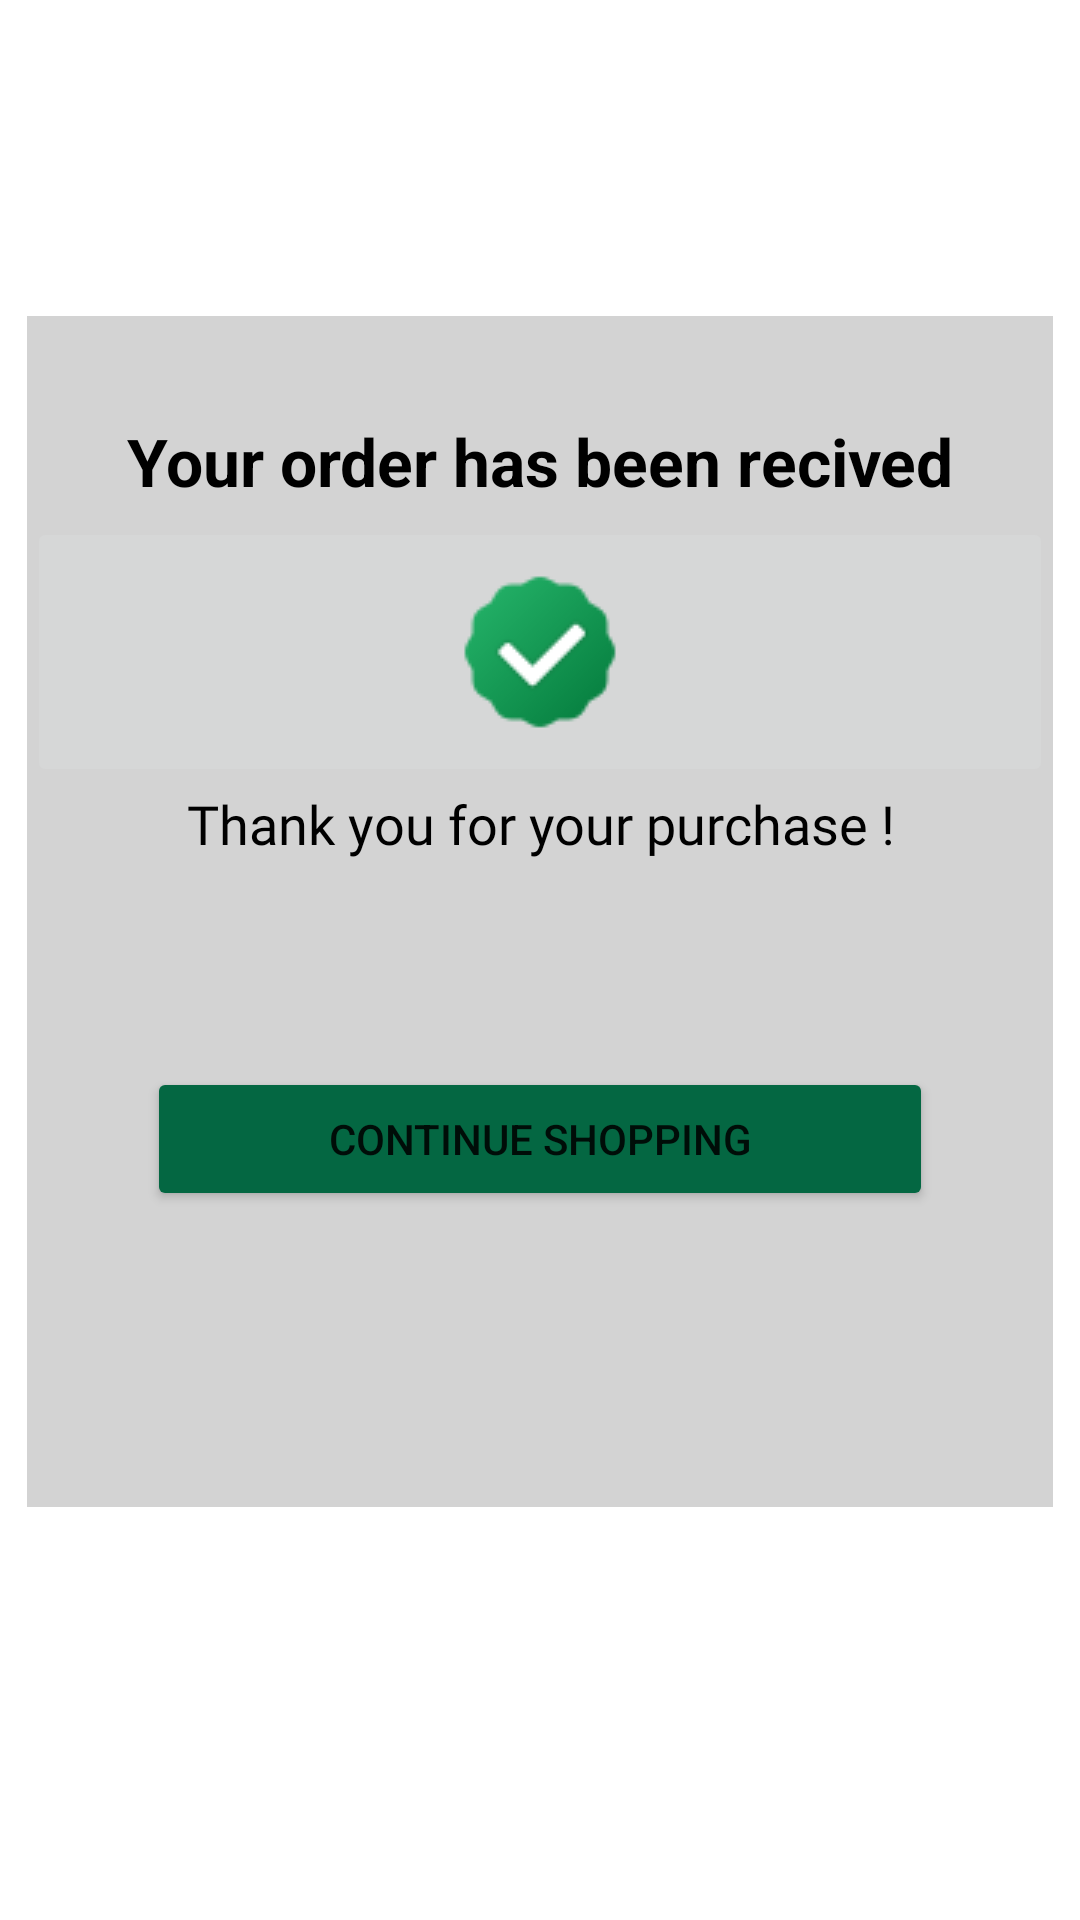

Point at icon controls on the screen. Image size 1080 x 1920, points as point (x, y).
confirm: point (540, 652)
